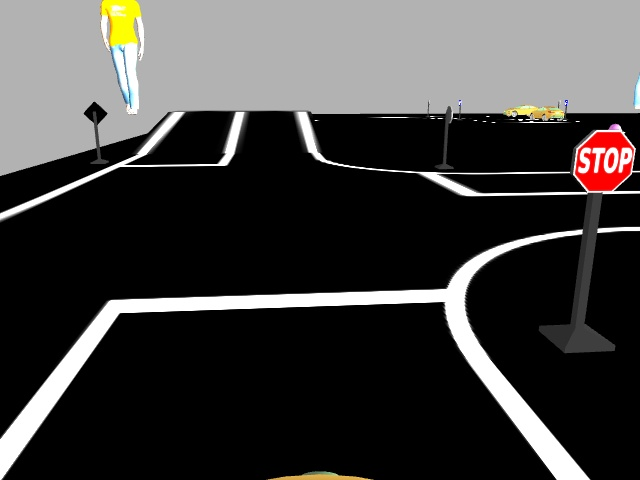Stop: (569, 124, 635, 193)
